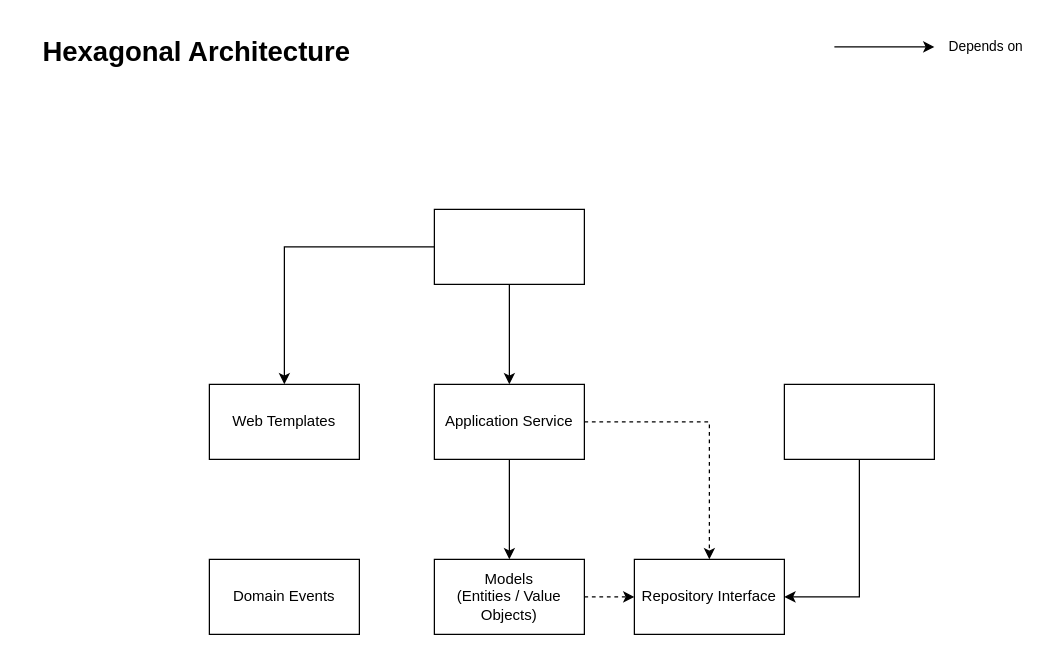
Some shapes in this 1044 by 656 pixel diagram are drawn without their labels. The box of each missing label's shape, as (x1, y1, x2, y2) in pixels:
Database: (783, 383, 934, 459)
HTTP Routes: (433, 208, 584, 284)
